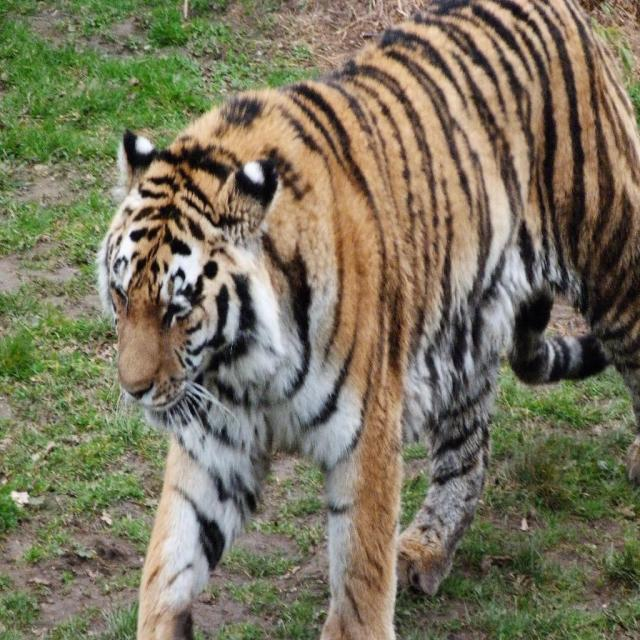Tiger: (92, 0, 639, 639)
